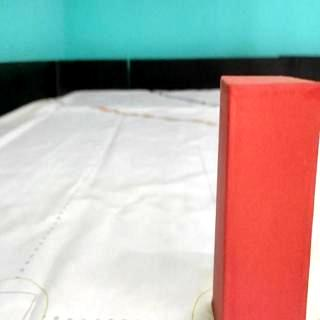redbox: (210, 72, 318, 320)
